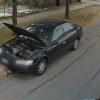Car: (2, 12, 86, 77)
